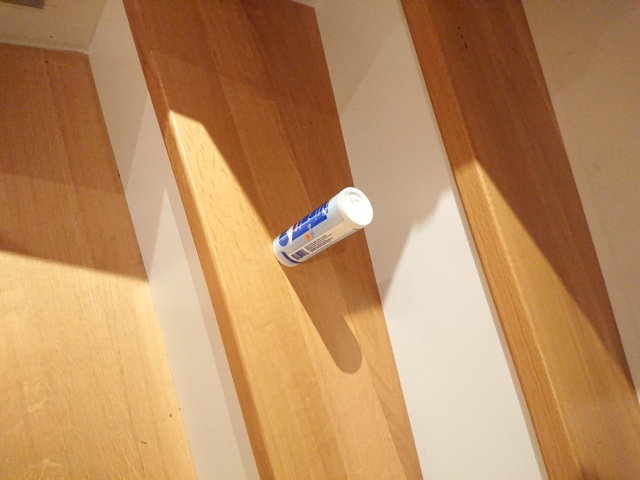Solana Pag Fine Sea Salt 250g: (271, 184, 376, 270)
